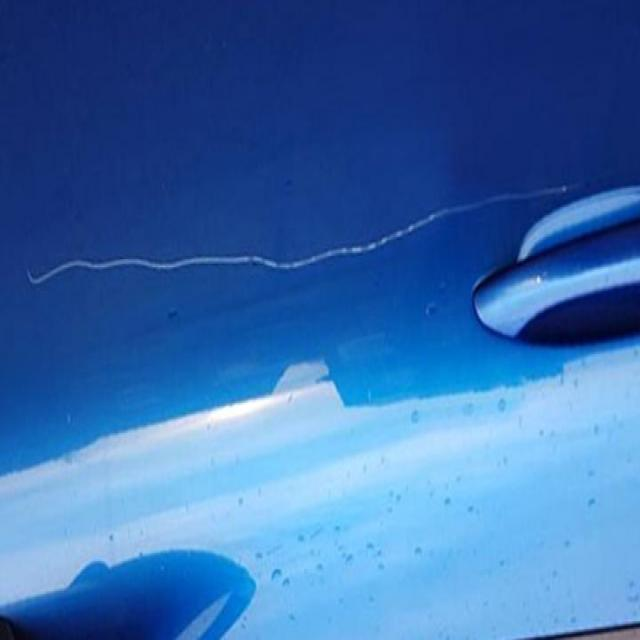scratch: (12, 158, 580, 352)
